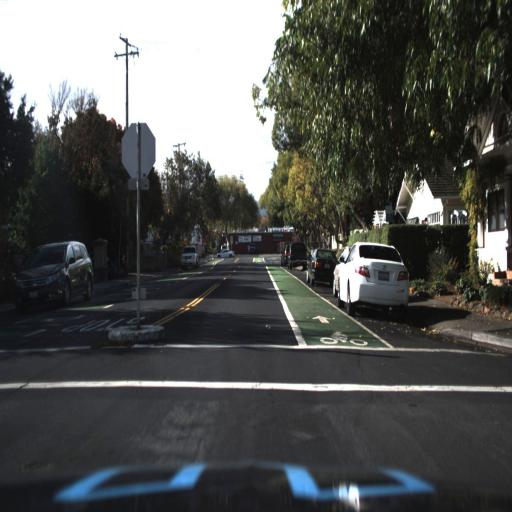car: (12, 228, 93, 310), (337, 238, 411, 320), (304, 248, 334, 290), (288, 242, 310, 272), (178, 249, 200, 277), (213, 242, 237, 262)
